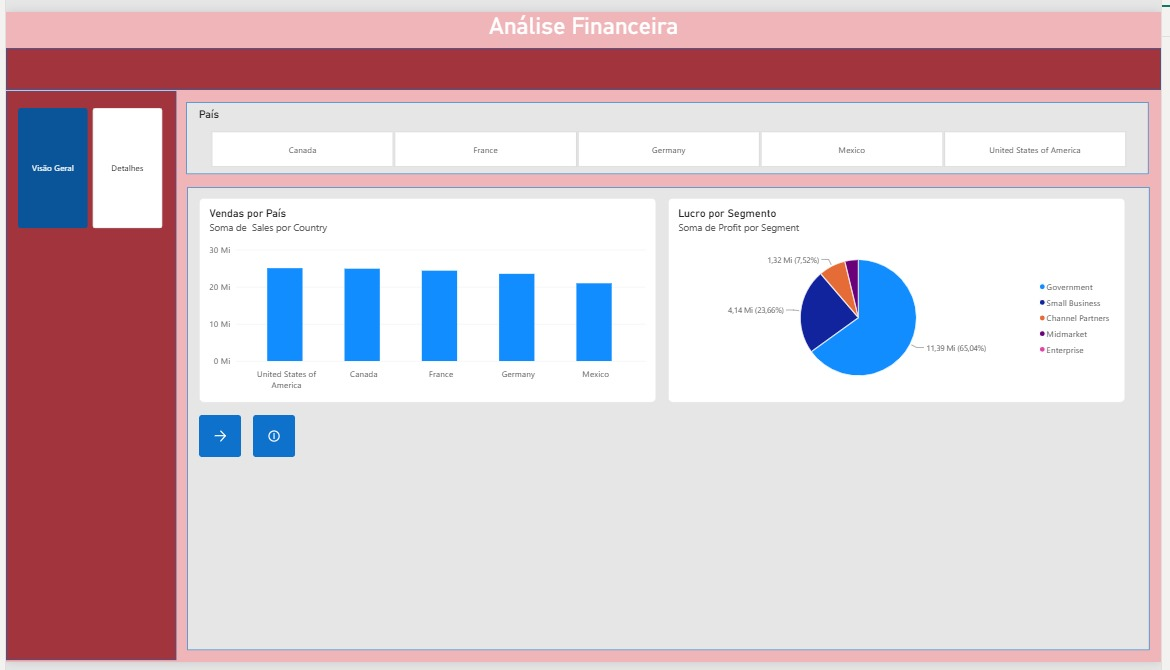

The page's visual inventory and layout, read from the dashboard file:
{"tool":"powerbi","page":{"name":"Visão Geral","canvas":[1920,1080],"ordinal":0},"visuals":[{"type":"shape","title":"Análise Financeira","box":[0,0,1920.2,129.6],"z":0},{"type":"shape","box":[0,131.2,283.2,946.2],"z":1000},{"type":"shape","box":[300,150,1600,120],"z":2000},{"type":"shape","box":[300.2,291.6,1600,770],"z":3000},{"type":"pieChart","title":"Lucro por Segmento","fields":{"Category":["financials.Segment"],"Y":["Sum(financials.Profit)"]},"box":[1100,310,760,340],"z":3002},{"type":"slicer","title":"País","fields":{"Values":["financials.Country"]},"box":[320,160,1560,100],"z":3003},{"type":"pageNavigator","title":"Visão Geral","box":[20,160,240,200],"z":3004},{"type":"map","title":"Mapa Vendas","fields":{"Category":["financials.Country"],"Size":["Sum(financials. Sales)"]},"box":[320,310,760,340],"z":3005},{"type":"actionButton","box":[320,670,70,70],"z":3006},{"type":"actionButton","box":[410,670,70,70],"z":3007}]}

Visuals, with their boxes on the page's 1920x1080 design canvas (x1, y1, x2, y2). These are canvas units, not pixel positions in the 1170x670 screenshot, which may show the page scaled, cropped or inside an application window:
"Análise Financeira" shape: 0 0 1920 130
shape: 0 131 283 1077
shape: 300 150 1900 270
shape: 300 292 1900 1062
"Lucro por Segmento" pieChart: 1100 310 1860 650
"País" slicer: 320 160 1880 260
"Visão Geral" pageNavigator: 20 160 260 360
"Mapa Vendas" map: 320 310 1080 650
actionButton: 320 670 390 740
actionButton: 410 670 480 740
